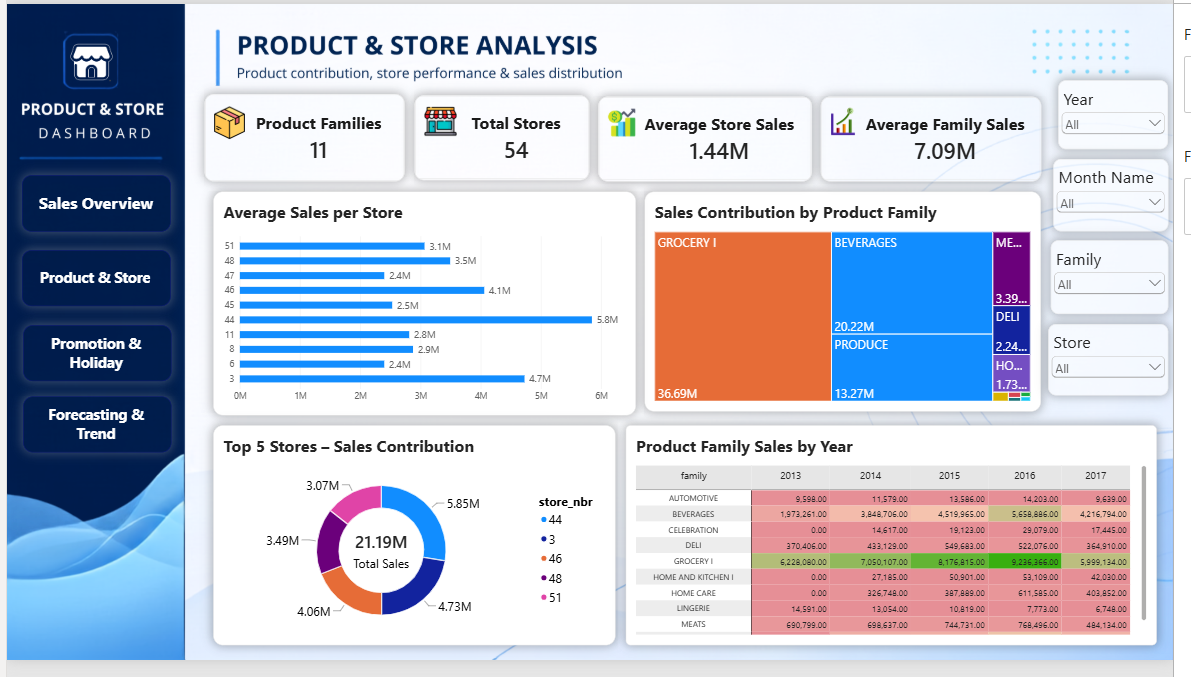

Layout of this report page (visuals, bound fields, positions):
{"tool":"powerbi","page":{"name":"Product & Store Analysis ","canvas":[1920,1080],"ordinal":1},"visuals":[{"type":"image","box":[96.7,55,84.4,80.3],"z":0},{"type":"treemap","title":"Sales Contribution by Product Family","fields":{"Group":["Sales_Cleaned_Final.family"],"Values":["Sum(Sales_Cleaned_Final.sales)"]},"box":[1050,308.7,652.5,362.3],"z":1000},{"type":"cardVisual","fields":{"Data":["Count(Sales_Cleaned_Final.family)"]},"box":[325.2,148.2,329.3,144.1],"z":2000},{"type":"cardVisual","fields":{"Data":["Count(Sales_Cleaned_Final.store_nbr)"]},"box":[671,150.3,288.2,140],"z":3000},{"type":"cardVisual","fields":{"Data":["Sales_Cleaned_Final.Average Store Sales"]},"box":[974,152.3,352,140],"z":4000},{"type":"cardVisual","fields":{"Data":["Sales_Cleaned_Final.Average Family Sales"]},"box":[1340,152.3,363,140],"z":5000},{"type":"image","box":[339.6,168.8,53.5,53.5],"z":6000},{"type":"image","box":[687.5,166.7,53,53],"z":7000},{"type":"image","box":[985,168.8,53,53],"z":8000},{"type":"image","box":[1350.3,166.7,53,53],"z":9000},{"type":"clusteredBarChart","title":"Average Sales per Store","fields":{"Y":["Sales_Cleaned_Final.Average Sales per Store"],"Category":["Sales_Cleaned_Final.store_nbr"]},"box":[339.6,308.7,695.7,368.4],"z":10000},{"type":"donutChart","title":"Top 5 Stores – Sales Contribution","fields":{"Category":["Sales_Cleaned_Final.store_nbr"],"Y":["Sum(Sales_Cleaned_Final.sales)"]},"box":[339.6,693.7,662.8,362.3],"z":11000},{"type":"slicer","fields":{"Values":["Sales_Cleaned_Final.Year"]},"box":[1731.1,125.6,181.1,113.2],"z":12000},{"type":"slicer","fields":{"Values":["Sales_Cleaned_Final.Month Name"]},"box":[1722.8,255,189.4,119.4],"z":13000},{"type":"slicer","fields":{"Values":["Sales_Cleaned_Final.store_nbr"]},"box":[1714.6,526.9,197.6,117.3],"z":14000},{"type":"slicer","fields":{"Values":["Sales_Cleaned_Final.family"]},"box":[1718.7,389,193.5,121.4],"z":15000},{"type":"pivotTable","title":"Product Family Sales by Year","fields":{"Columns":["Sales_Cleaned_Final.Year"],"Rows":["Sales_Cleaned_Final.family"],"Values":["Sum(Sales_Cleaned_Final.sales)"]},"box":[1018.9,693.7,874.8,362.3],"z":16000},{"type":"actionButton","box":[24.7,282,244.9,92.6],"z":17000},{"type":"actionButton","box":[24.7,405.5,244.9,92],"z":18000},{"type":"actionButton","box":[26.8,528,244,92],"z":19000},{"type":"actionButton","box":[26.8,646.3,244,92],"z":20000}]}

Visuals, with their boxes on the page's 1920x1080 design canvas (x1, y1, x2, y2). These are canvas units, not pixel positions in the 1191x677 screenshot, which may show the page scaled, cropped or inside an application window:
image: (x1=97, y1=55, x2=181, y2=135)
"Sales Contribution by Product Family" treemap: (x1=1050, y1=309, x2=1702, y2=671)
cardVisual - Count(Sales_Cleaned_Final.family): (x1=325, y1=148, x2=654, y2=292)
cardVisual - Count(Sales_Cleaned_Final.store_nbr): (x1=671, y1=150, x2=959, y2=290)
cardVisual - Sales_Cleaned_Final.Average Store Sales: (x1=974, y1=152, x2=1326, y2=292)
cardVisual - Sales_Cleaned_Final.Average Family Sales: (x1=1340, y1=152, x2=1703, y2=292)
image: (x1=340, y1=169, x2=393, y2=222)
image: (x1=688, y1=167, x2=740, y2=220)
image: (x1=985, y1=169, x2=1038, y2=222)
image: (x1=1350, y1=167, x2=1403, y2=220)
"Average Sales per Store" clusteredBarChart: (x1=340, y1=309, x2=1035, y2=677)
"Top 5 Stores – Sales Contribution" donutChart: (x1=340, y1=694, x2=1002, y2=1056)
slicer - Sales_Cleaned_Final.Year: (x1=1731, y1=126, x2=1912, y2=239)
slicer - Sales_Cleaned_Final.Month Name: (x1=1723, y1=255, x2=1912, y2=374)
slicer - Sales_Cleaned_Final.store_nbr: (x1=1715, y1=527, x2=1912, y2=644)
slicer - Sales_Cleaned_Final.family: (x1=1719, y1=389, x2=1912, y2=510)
"Product Family Sales by Year" pivotTable: (x1=1019, y1=694, x2=1894, y2=1056)
actionButton: (x1=25, y1=282, x2=270, y2=375)
actionButton: (x1=25, y1=406, x2=270, y2=498)
actionButton: (x1=27, y1=528, x2=271, y2=620)
actionButton: (x1=27, y1=646, x2=271, y2=738)
